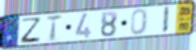0: (129, 8, 149, 37)
4: (74, 12, 93, 41)
8: (100, 11, 119, 38)
I: (161, 5, 171, 35)
T: (45, 14, 64, 43)
Z: (19, 17, 43, 44)
